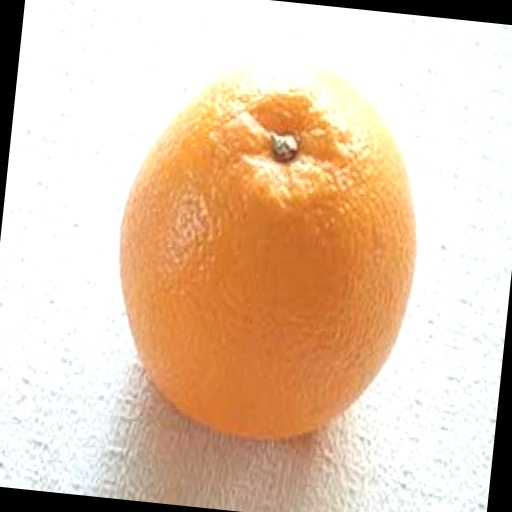fruit: (304, 155, 479, 512)
